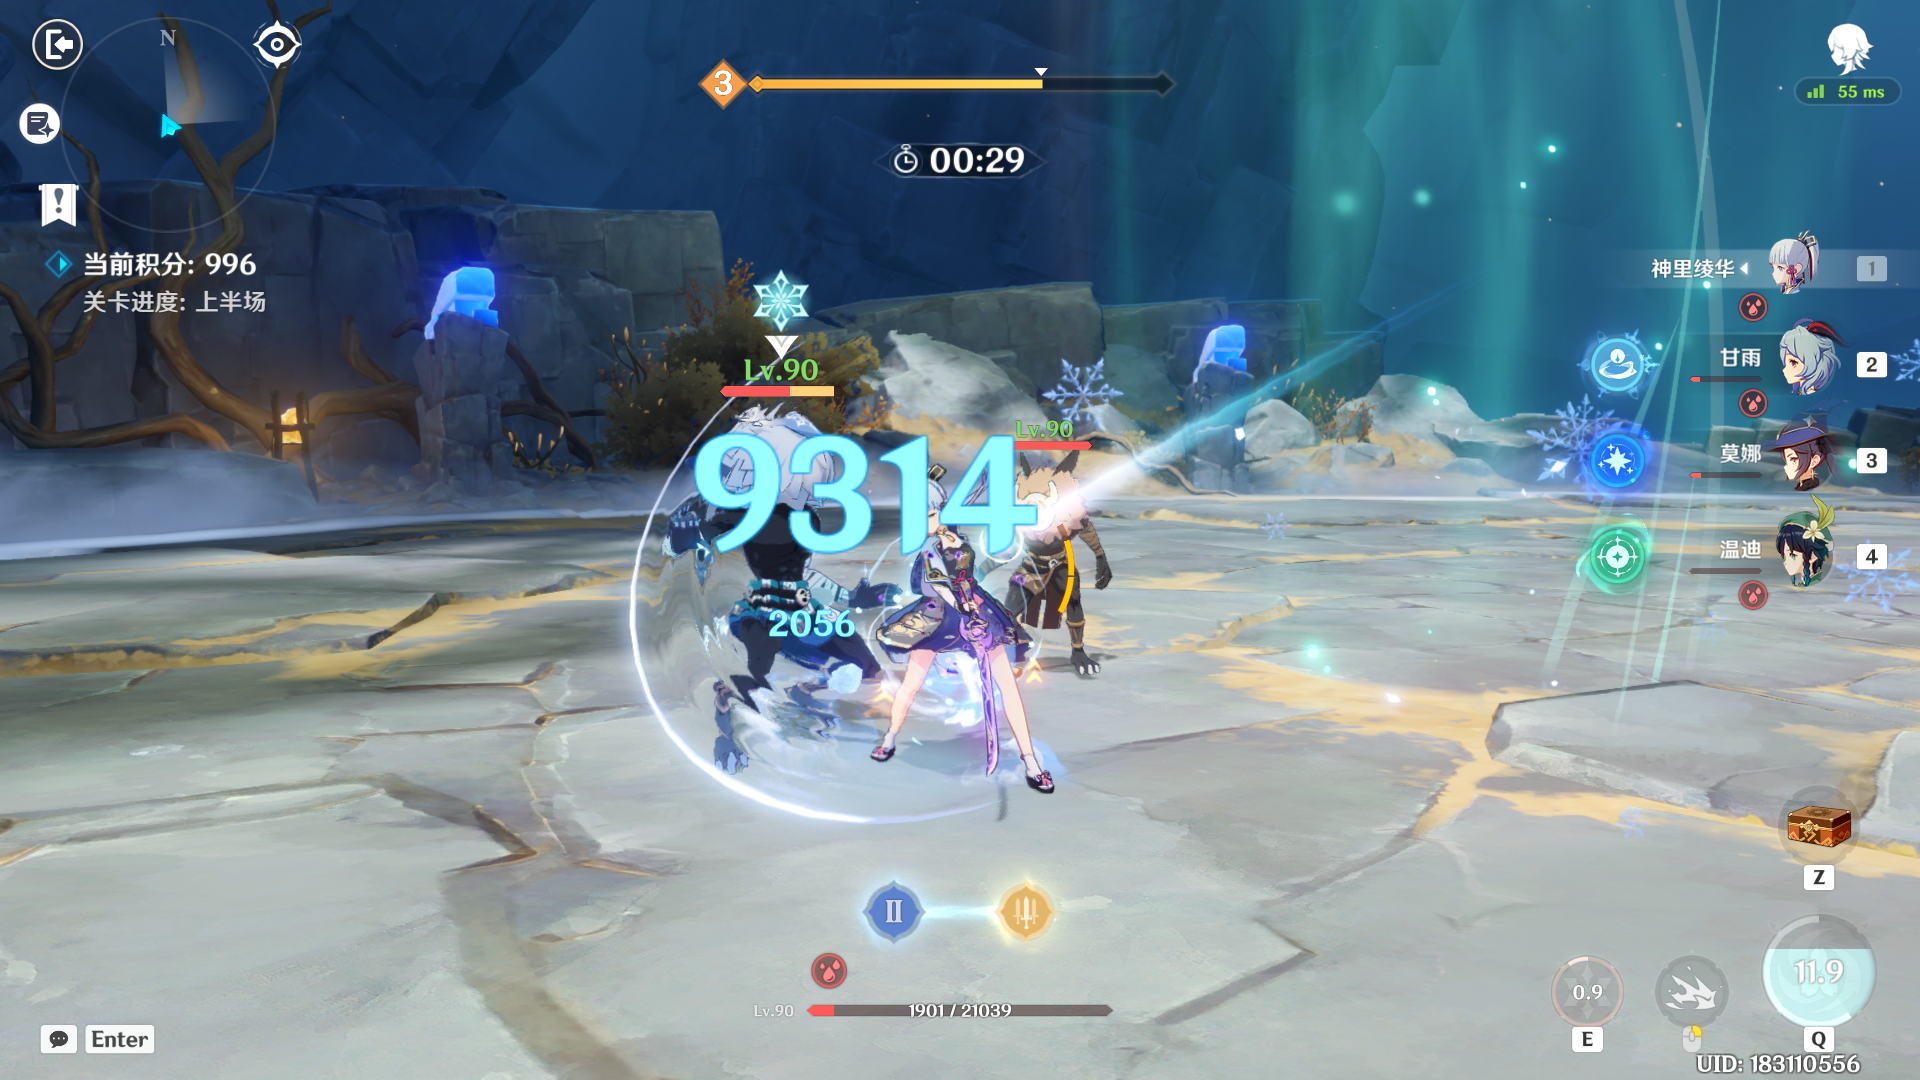character: (818, 448, 1127, 839)
hili: (634, 371, 905, 808), (998, 446, 1129, 682)
